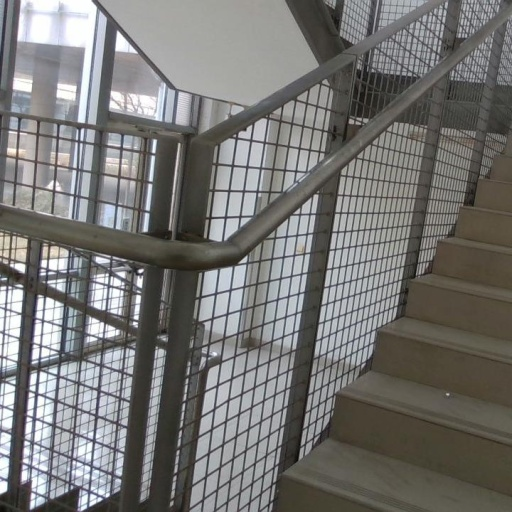Stairs: (278, 137, 512, 512)
